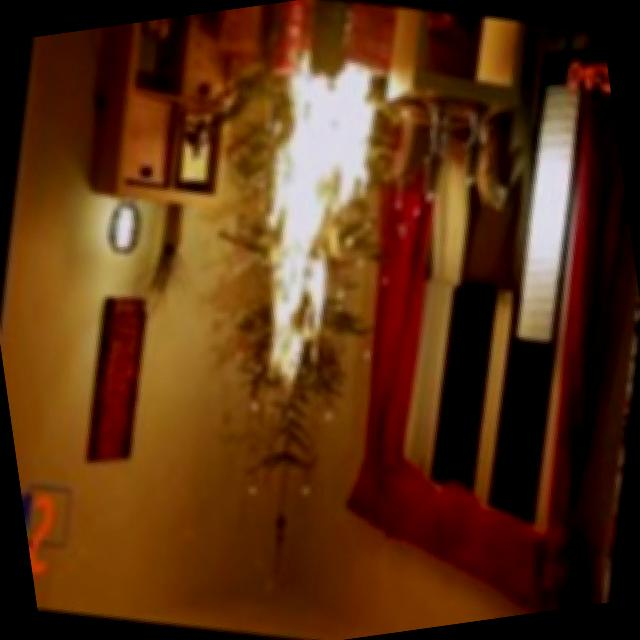fire: (179, 12, 462, 434)
